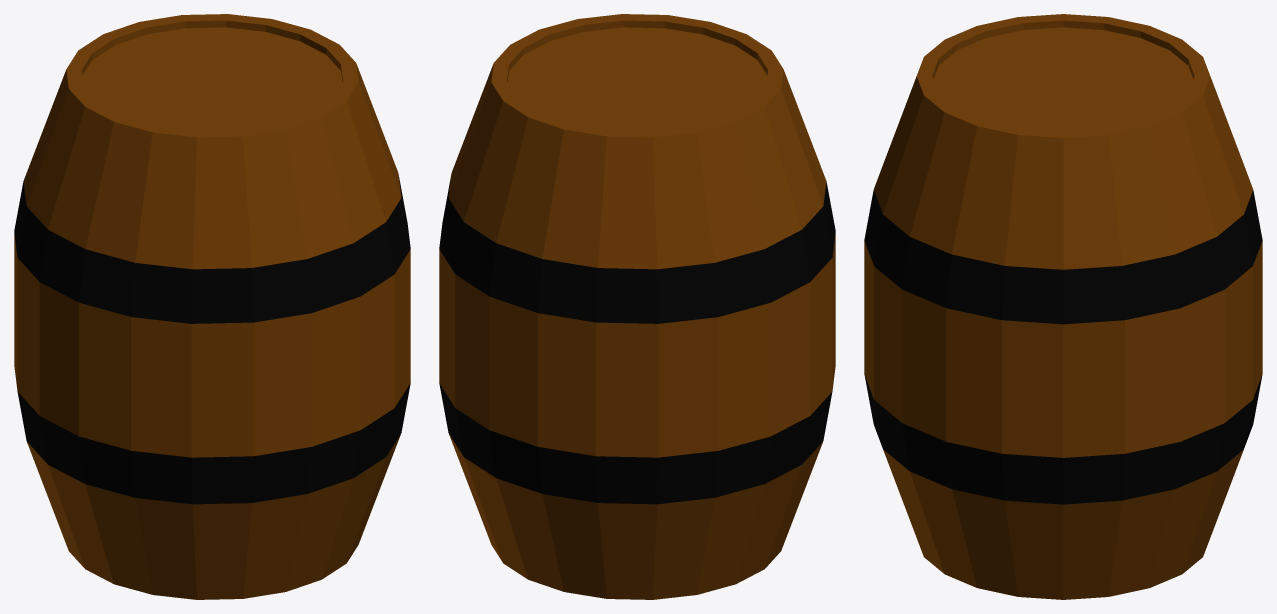
The model's file is Barrel.fbx.
3 views of the same model, side by side, from view 1: azimuth 30°, elevation 25°; view 2: azimuth 150°, elevation 25°; view 3: azimuth 270°, elevation 25° (orthographic).
Visible parts, largest first — view 1: Cylinder; view 2: Cylinder; view 3: Cylinder.
Boxes of the visible parts, <box> form: Cylinder: <box>14,14,410,599</box>; Cylinder: <box>439,14,835,599</box>; Cylinder: <box>864,14,1262,599</box>.
Size of the model in its own units: 118 by 151 by 118.
